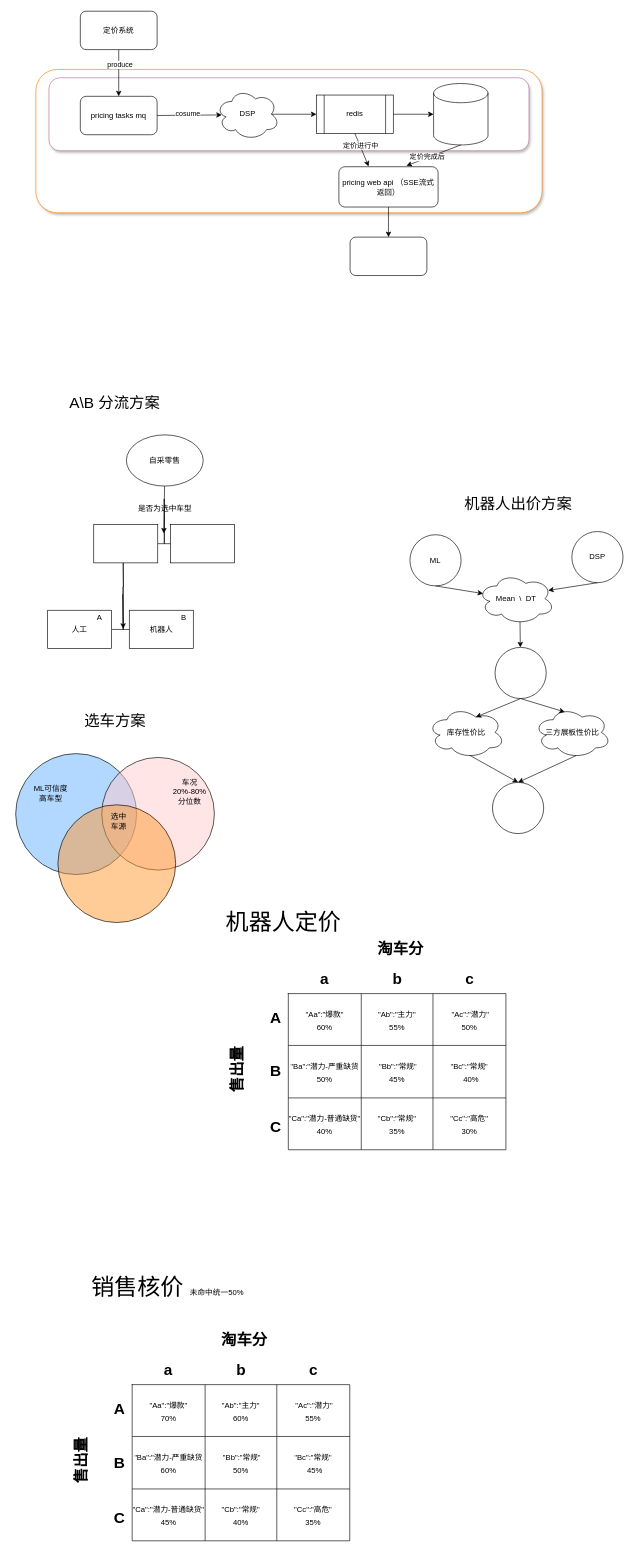
Some shapes in this 634 by 1552 pixel diagram are drawn without their labels. Here are the shapes that lost their labels. From the top down, the centre of each, then its label:
[460,114]: DB
[388,256]: 定价系统 2号机器人前端
[125,543]: 选中
[202,543]: 未选中
[520,673]: Bot Price
[518,808]: Final Bot Price
[116,863]: dsp 可信度高车型
